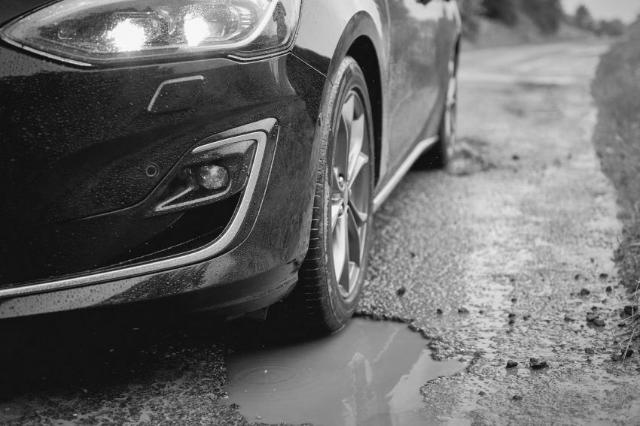Pothole: (209, 305, 483, 426)
